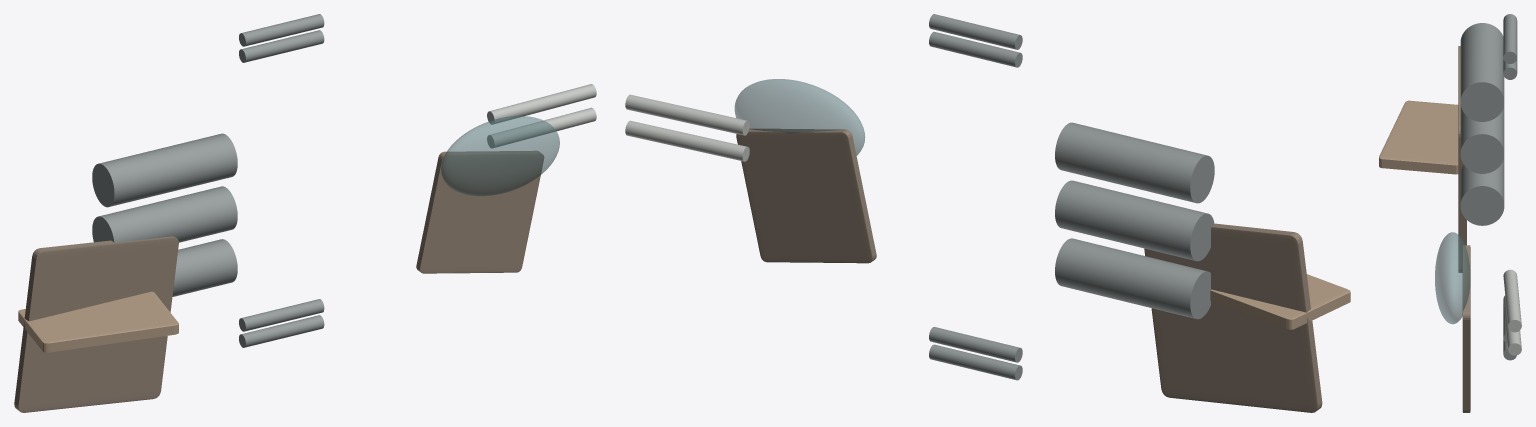
The model's file is d-u25-dominion-multirole-aircraft-lod2.glb.
3 renders of one model, left to right at view 1: azimuth 30°, elevation 25°; view 2: azimuth 150°, elevation 25°; view 3: azimuth 270°, elevation 25°, orthographic. The views are drawn at different scales.
Parts seen in each view (by area): view 1: combat_tailplane_-1, canard_-1, combat_canopy, combat_engine_2, combat_fin_-1, combat_engine_1, combat_engine_0, combat_gun_barrel_1, combat_gun_barrel_0, combat_1_tube_1, combat_-1_tube_1, combat_1_tube_2 (+1 smaller); view 2: combat_tailplane_-1, canard_-1, combat_engine_2, combat_engine_1, combat_engine_0, combat_canopy, combat_fin_-1, combat_gun_barrel_1, combat_gun_barrel_0, combat_-1_tube_1, combat_-1_tube_2, combat_1_tube_1 (+1 smaller); view 3: combat_fin_-1, combat_engine_2, combat_canopy, combat_engine_1, combat_engine_0, canard_-1, combat_tailplane_-1, combat_gun_barrel_1, combat_1_tube_2, combat_gun_barrel_0, combat_1_tube_1.
Part boxes in pixels (left/top/right/bottom): combat_tailplane_-1: left=14, top=236, right=178, bottom=412; canard_-1: left=416, top=151, right=543, bottom=273; combat_canopy: left=441, top=116, right=559, bottom=196; combat_engine_2: left=92, top=133, right=237, bottom=207; combat_fin_-1: left=18, top=291, right=178, bottom=352; combat_engine_1: left=92, top=186, right=237, bottom=242; combat_engine_0: left=172, top=239, right=237, bottom=296; combat_gun_barrel_1: left=487, top=84, right=596, bottom=124; combat_gun_barrel_0: left=487, top=107, right=596, bottom=148; combat_1_tube_1: left=239, top=30, right=324, bottom=62; combat_-1_tube_1: left=239, top=315, right=324, bottom=347; combat_1_tube_2: left=239, top=14, right=324, bottom=46; combat_tailplane_-1: left=1144, top=223, right=1322, bottom=412; canard_-1: left=736, top=129, right=876, bottom=263; combat_engine_2: left=1055, top=122, right=1214, bottom=203; combat_engine_1: left=1055, top=180, right=1214, bottom=261; combat_engine_0: left=1055, top=238, right=1210, bottom=319; combat_canopy: left=734, top=79, right=865, bottom=155; combat_fin_-1: left=1210, top=274, right=1350, bottom=329; combat_gun_barrel_1: left=625, top=94, right=749, bottom=135; combat_gun_barrel_0: left=625, top=120, right=749, bottom=161; combat_-1_tube_1: left=929, top=344, right=1022, bottom=380; combat_-1_tube_2: left=929, top=327, right=1022, bottom=362; combat_1_tube_1: left=929, top=31, right=1022, bottom=67; combat_fin_-1: left=1379, top=100, right=1458, bottom=174; combat_engine_2: left=1460, top=23, right=1504, bottom=121; combat_canopy: left=1435, top=232, right=1470, bottom=324; combat_engine_1: left=1460, top=105, right=1504, bottom=173; combat_engine_0: left=1460, top=157, right=1504, bottom=225; canard_-1: left=1462, top=245, right=1470, bottom=412; combat_tailplane_-1: left=1458, top=46, right=1466, bottom=272; combat_gun_barrel_1: left=1503, top=269, right=1521, bottom=332; combat_1_tube_2: left=1503, top=14, right=1517, bottom=63; combat_gun_barrel_0: left=1503, top=295, right=1521, bottom=355; combat_1_tube_1: left=1503, top=58, right=1517, bottom=79.
Size of what is drawn, in the model's own units: 14.74 by 7.42 by 3.07.
